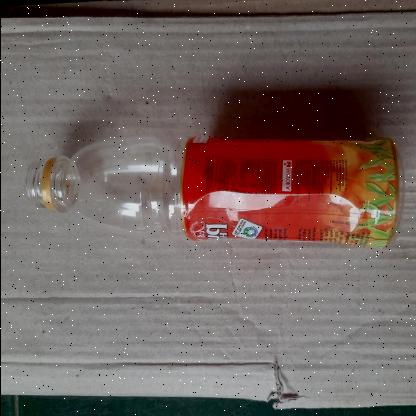Plastic Bottle: (25, 133, 403, 249)
